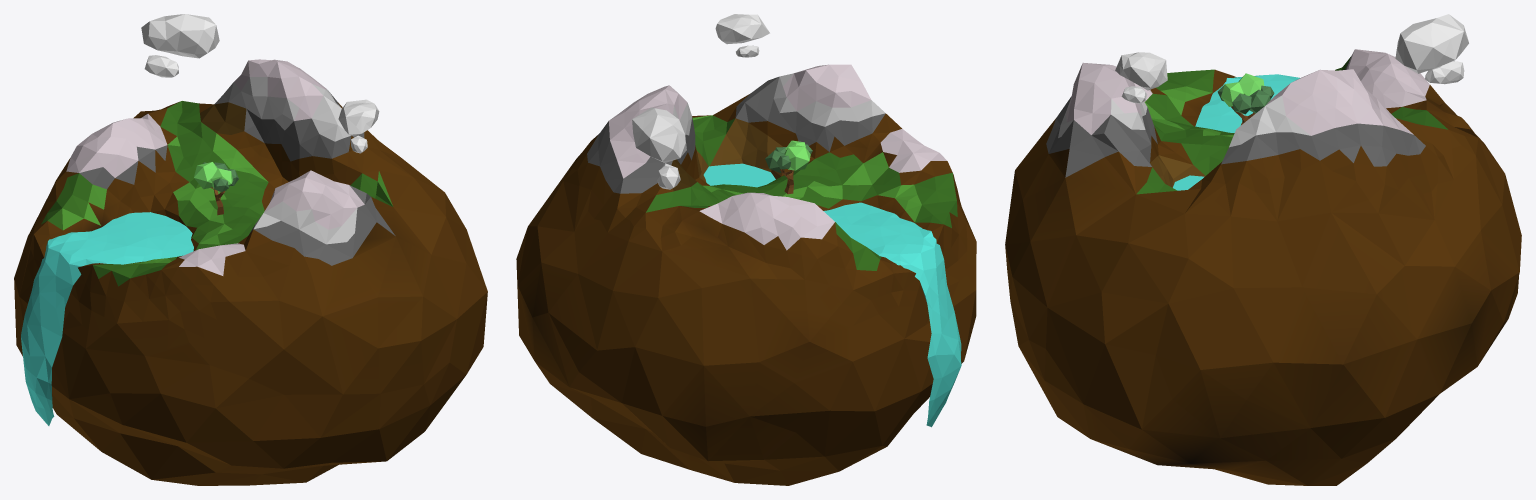
Rendered from Lowpoly Island 9-Anim.glb.
3 views of the same model, side by side, from view 1: azimuth 30°, elevation 25°; view 2: azimuth 150°, elevation 25°; view 3: azimuth 270°, elevation 25° (orthographic). The views are drawn at different scales.
Visible parts, largest first — view 1: Island, Water, Cloud.002, Cloud.004, Cloud.001; view 2: Island, Water, Cloud.002, Cloud.004, Icosphere.004; view 3: Island, Cloud.002, Water, Cloud.004, Cloud.001.
Boxes of the visible parts, x1,y1,x2,y2 form: Island: [14, 59, 487, 485]; Water: [21, 212, 193, 425]; Cloud.002: [141, 14, 219, 58]; Cloud.004: [338, 99, 379, 136]; Cloud.001: [144, 55, 178, 77]; Island: [516, 64, 976, 485]; Water: [703, 163, 961, 427]; Cloud.002: [632, 107, 686, 162]; Cloud.004: [715, 14, 769, 44]; Icosphere.004: [784, 145, 810, 170]; Island: [1005, 49, 1521, 485]; Cloud.002: [1395, 14, 1468, 73]; Water: [1173, 74, 1299, 190]; Cloud.004: [1115, 52, 1167, 90]; Cloud.001: [1425, 61, 1464, 84].
Size of the model in its own units: 20.36 by 18.59 by 19.76.
